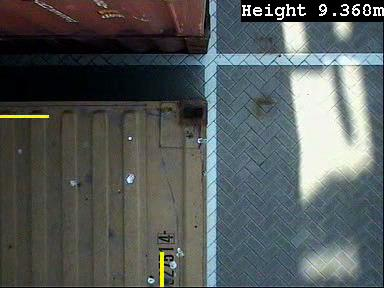groundmarker_2: (193, 203, 237, 284), (162, 66, 239, 101)
